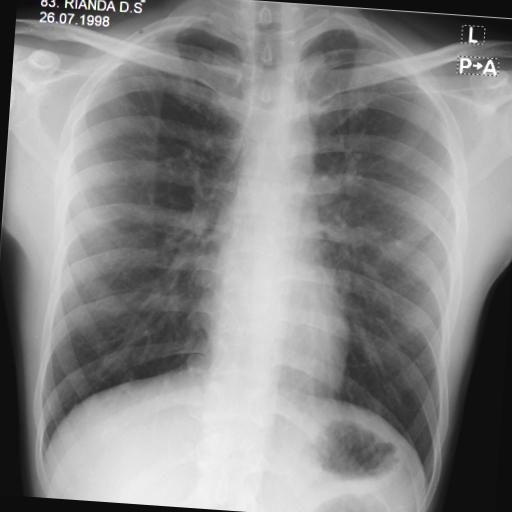normal: (21, 0, 472, 502)
